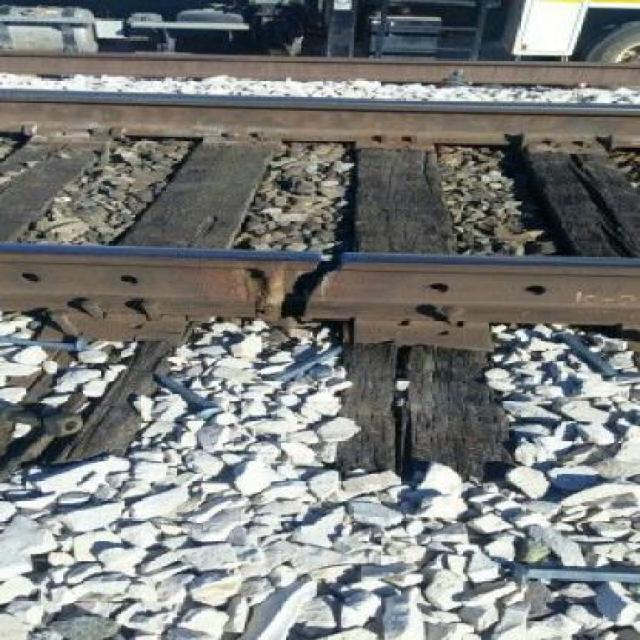defective: (126, 172, 485, 376)
